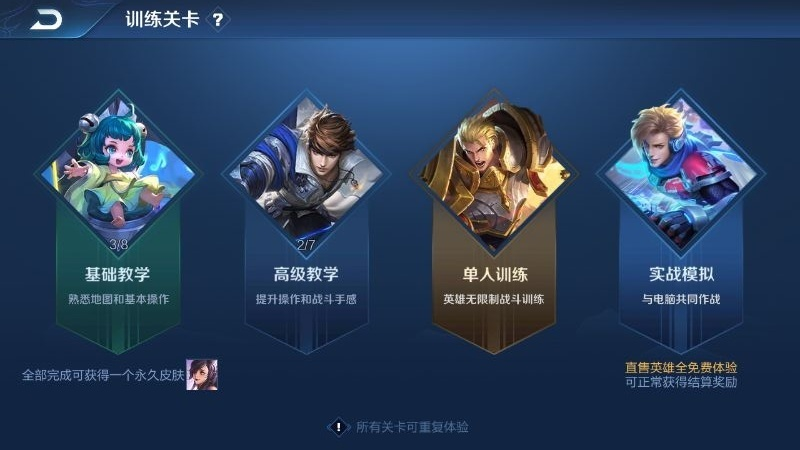obj_2496122226840: (246, 108, 360, 239)
return: (16, 3, 72, 36)
